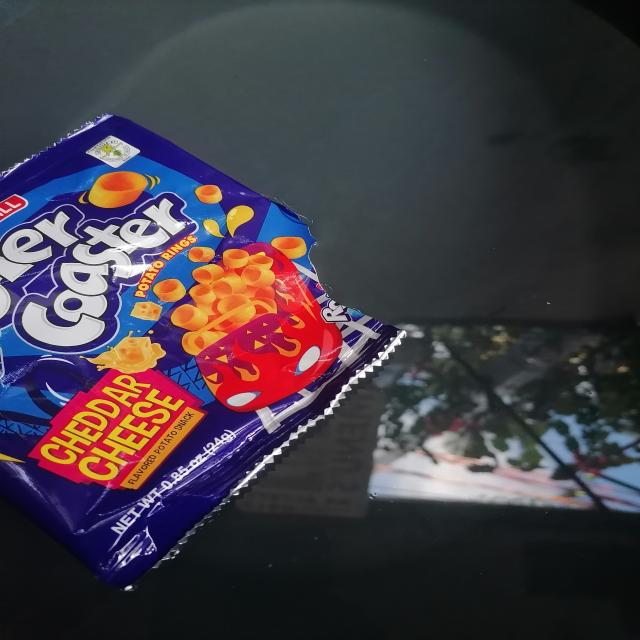Plastic Wrapper: (0, 114, 406, 590)
